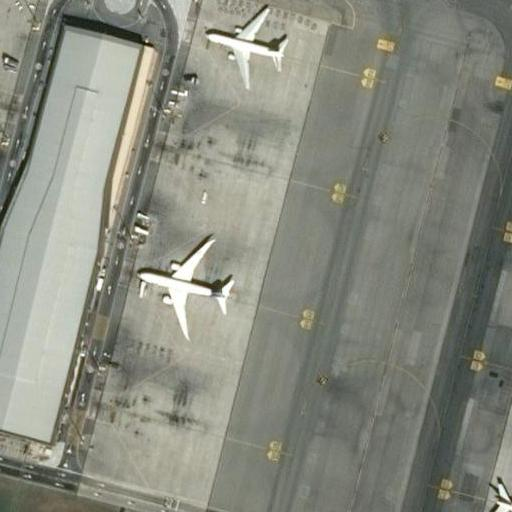Aircraft: (134, 231, 235, 339), (202, 2, 287, 88), (485, 450, 512, 512)
